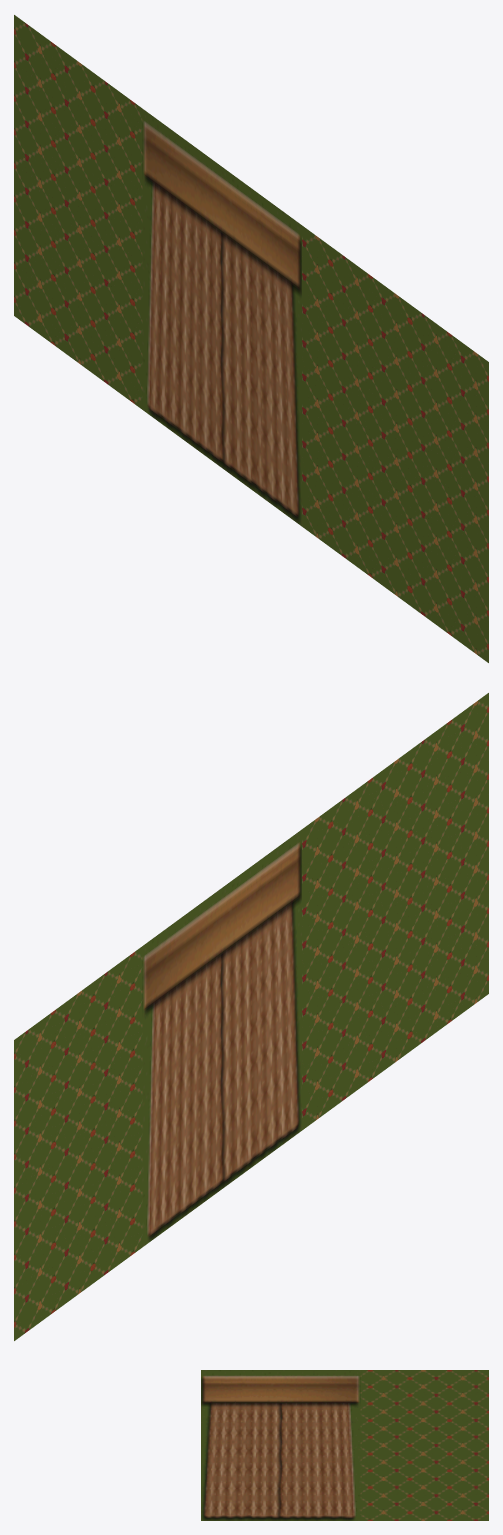
The picture shows the model from 3 angles, top to bottom: view 1: azimuth 30°, elevation 25°; view 2: azimuth 150°, elevation 25°; view 3: azimuth 270°, elevation 25°; orthographic projection. The views are drawn at different scales.
Visible parts, largest first — view 1: Object02; view 2: Object02; view 3: Object02.
Part boxes in pixels (x1,y1,x2,y2): Object02: (14,15,488,662); Object02: (14,693,488,1340); Object02: (201,1370,488,1520).
Size of the model in its own units: 0.00029 by 623 by 1780.
Materials: 2 (2 with a texture image).
